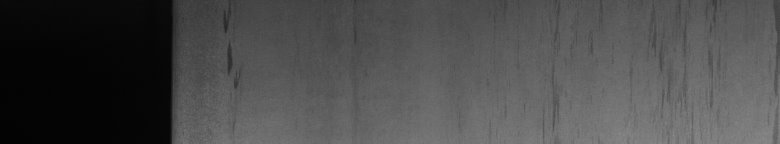ka: (660, 4, 776, 92)
